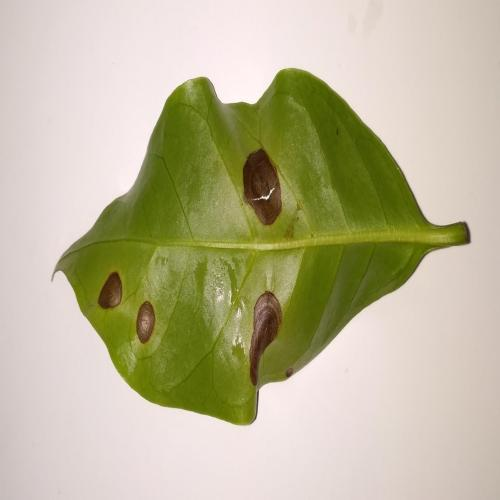miner: (243, 150, 281, 225)
